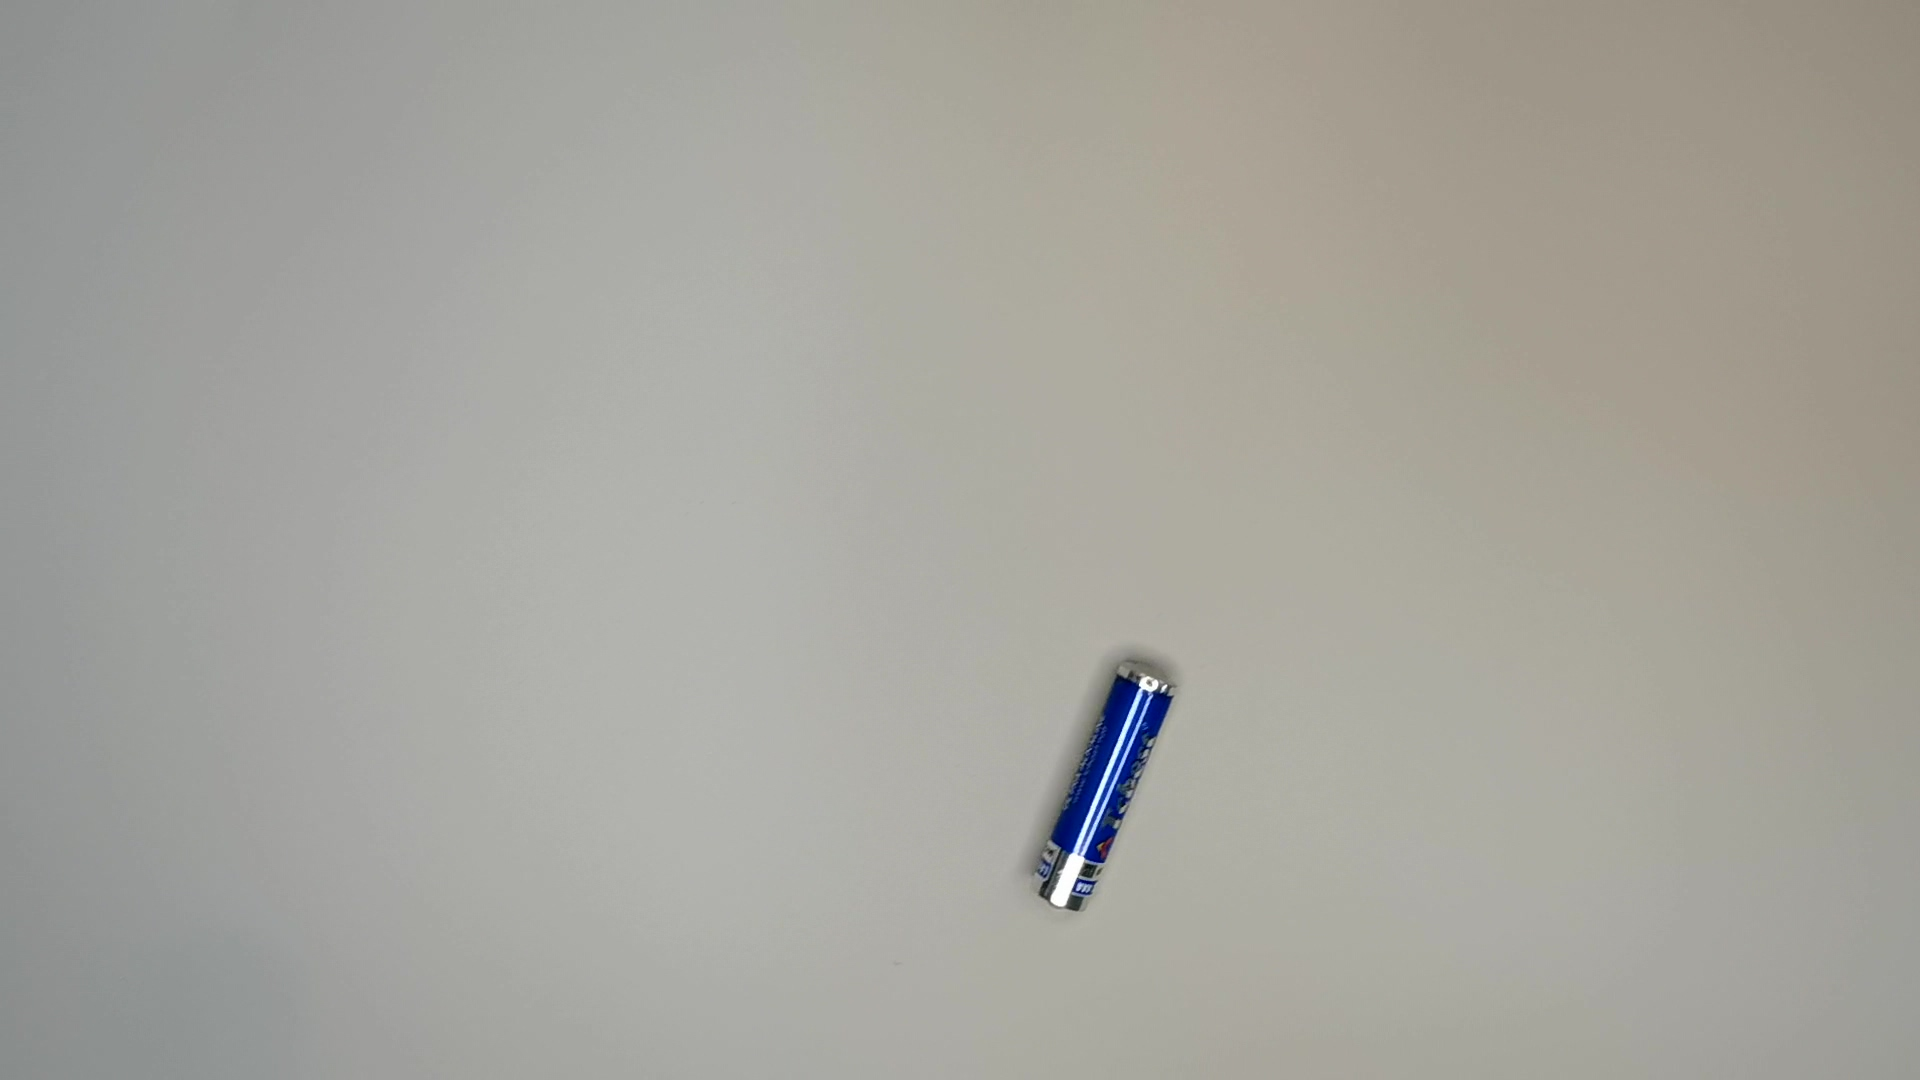battery: (1023, 654, 1192, 924)
